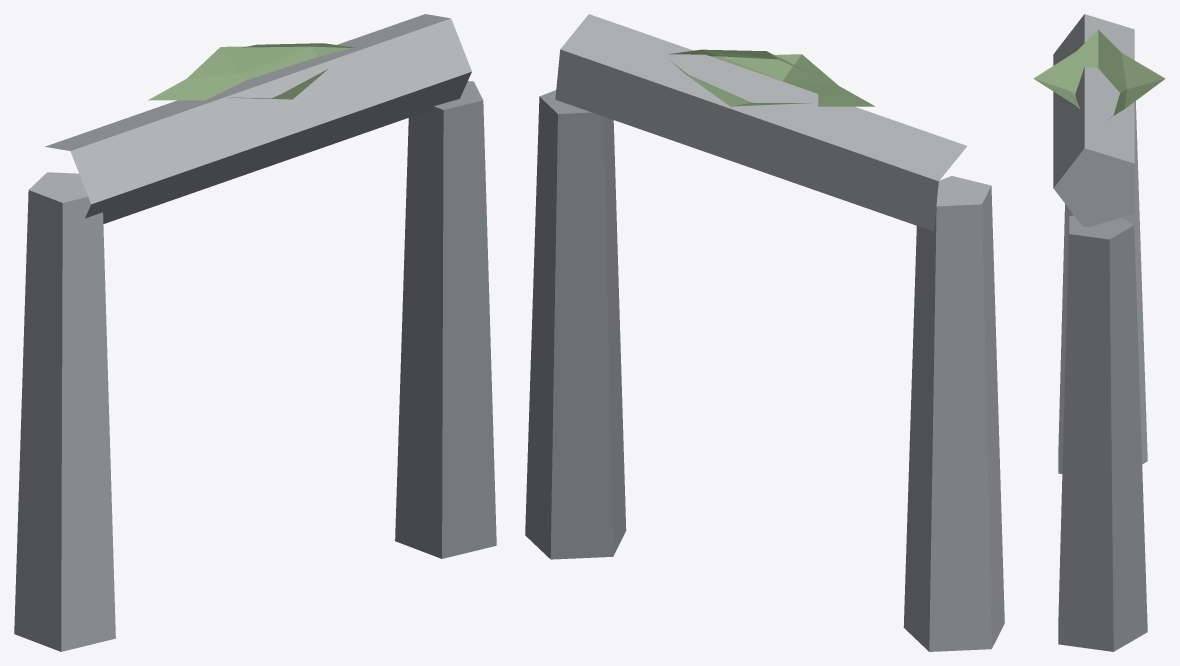
The model's file is arch_rock_v37.glb.
The picture shows the model from 3 angles, left to right: view 1: azimuth 30°, elevation 25°; view 2: azimuth 150°, elevation 25°; view 3: azimuth 270°, elevation 25°; orthographic projection. The views are drawn at different scales.
Parts seen in each view (by area): view 1: lod0; view 2: lod0; view 3: lod0.
Part boxes in pixels (x1,y1,x2,y2): lod0: [14, 14, 496, 651]; lod0: [525, 14, 1004, 651]; lod0: [1033, 14, 1165, 651].
Size of what is drawn, in the model's own units: 2.22 by 2.43 by 0.5897.
